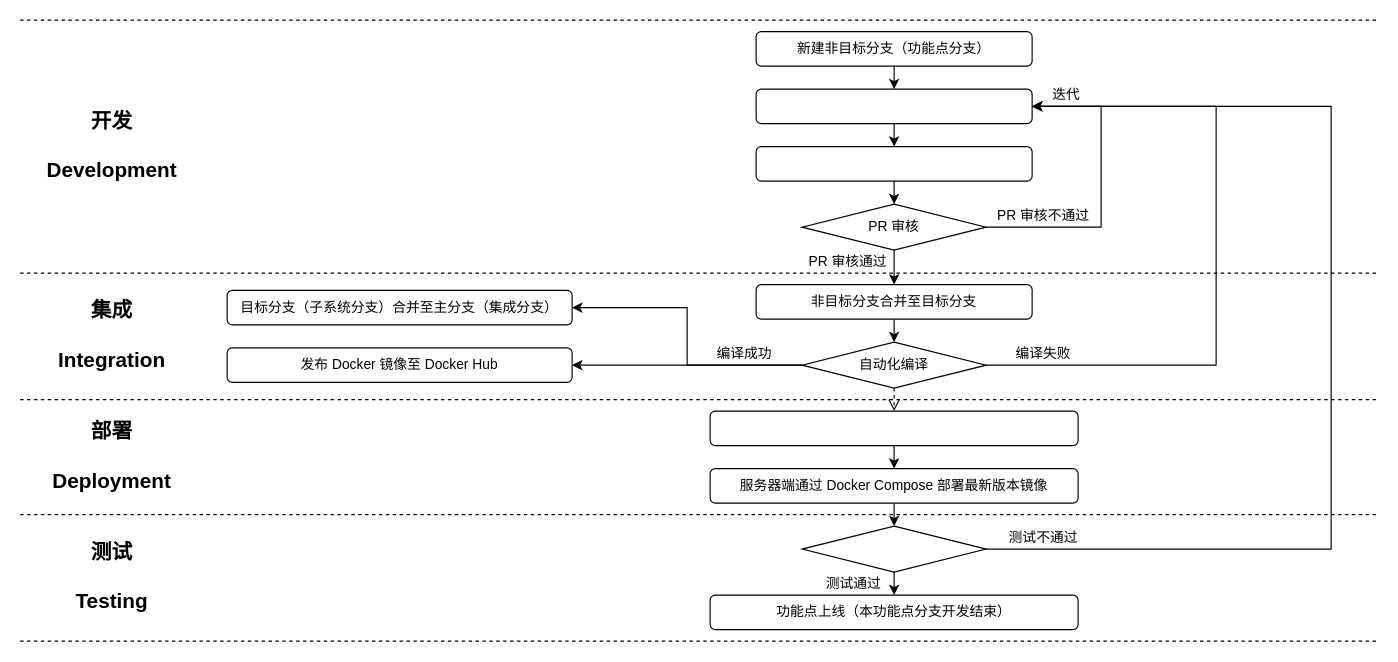
The diagram is 1398 pixels wide and 662 high, and some of its shapes have lost their labels. Here are the shapes that lost their labels. From the top down, the box of each, then its label:
(755, 88, 1032, 124): 向非目标分支提交代码
(755, 145, 1032, 181): 拉取 PR 至目标分支（子系统分支）
(709, 410, 1078, 446): 服务器端定时通过 Docker Compose 获取最新版本镜像
(801, 525, 986, 572): 生产环境测试
